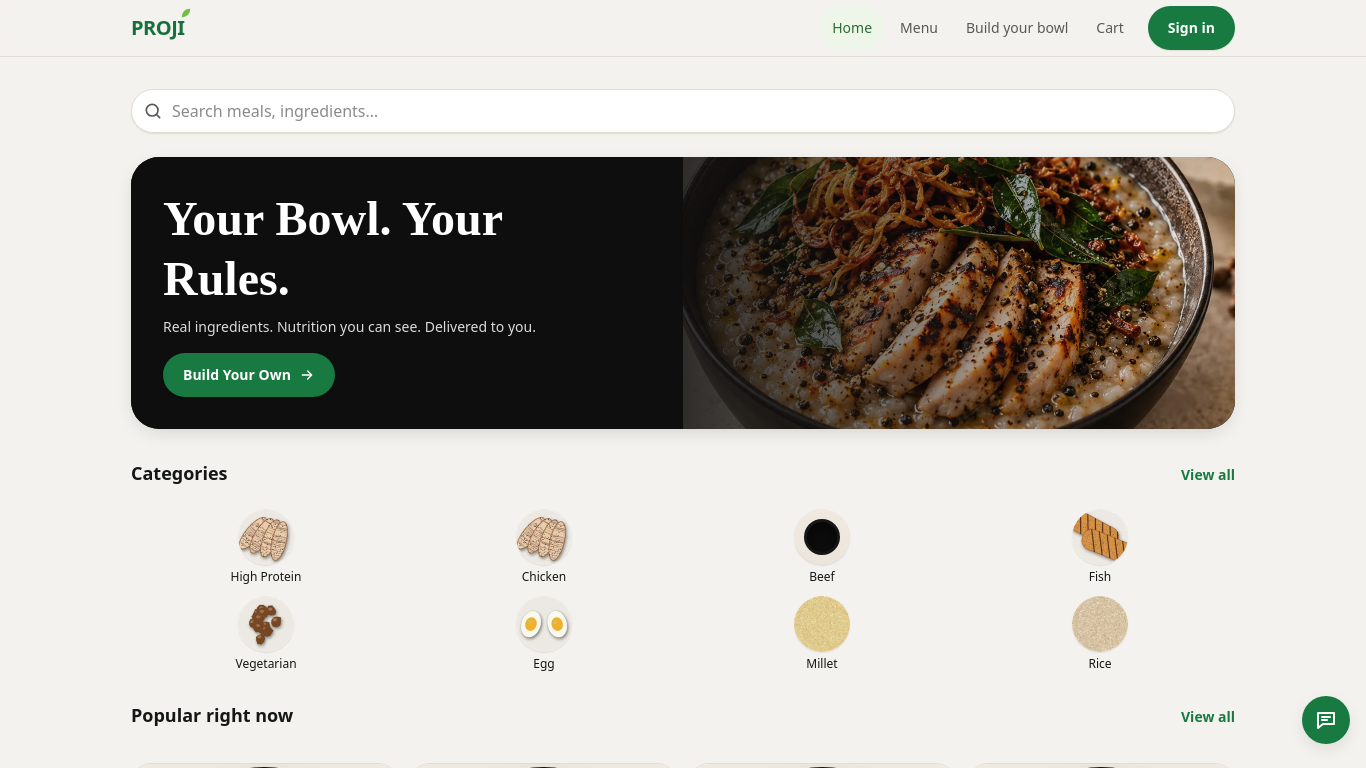
Test case: N-01 bottom navigation › floating chat button is present and opens an honest support dialog
The width and height of the screenshot is (1366, 768).
What coordinates should you click on to do the following:
click the button named "chat with proji support"
I would click on:
 (1326, 720)
Its box is [1302, 696, 1350, 744].
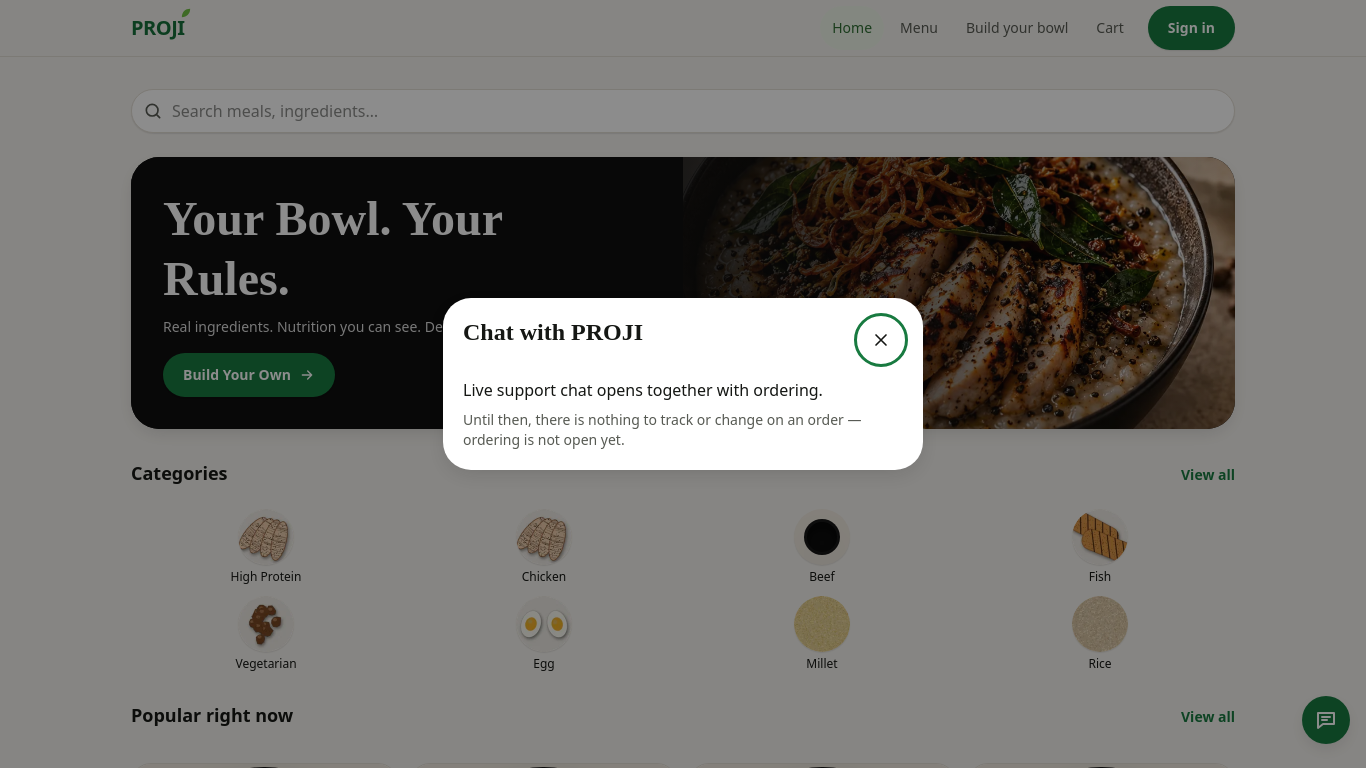
Expected: the dialog "Chat with PROJI" shows "opens together with ordering", [463, 379, 823, 401]
